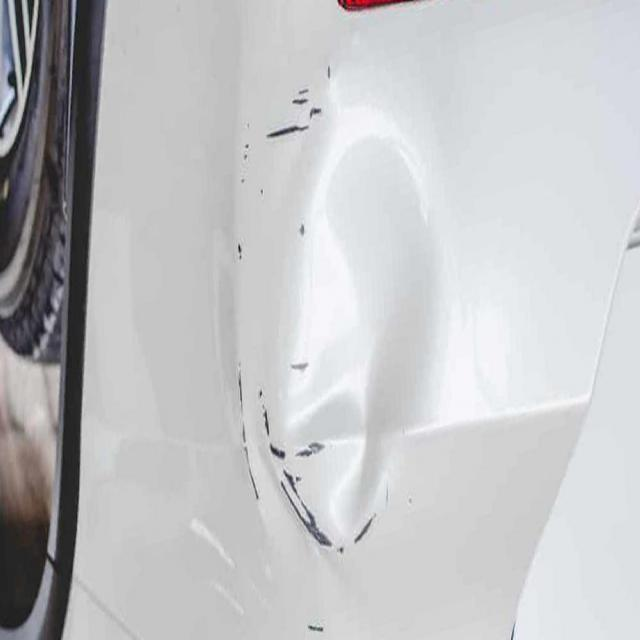dent: (232, 94, 462, 593)
